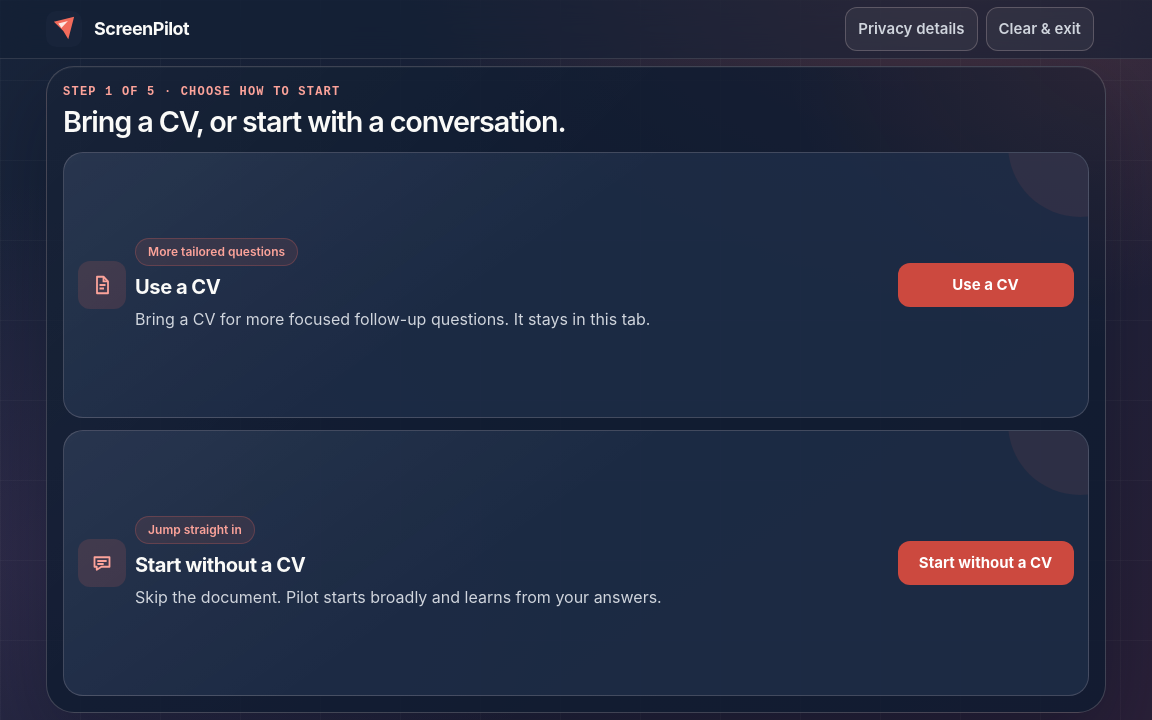
Test: DemoExperience preparation paths › uses only bootstrap and deterministic preparation before shared preflight
Expected: the text "Step 1 of 5 · Choose how to start" is shown, 63,85 -> 340,99
Expected: the header with class "sp-site-header" is shown, 0,0 -> 1151,59
Click the button "Start without a CV" at [986, 563], box 898,541 -> 1074,585
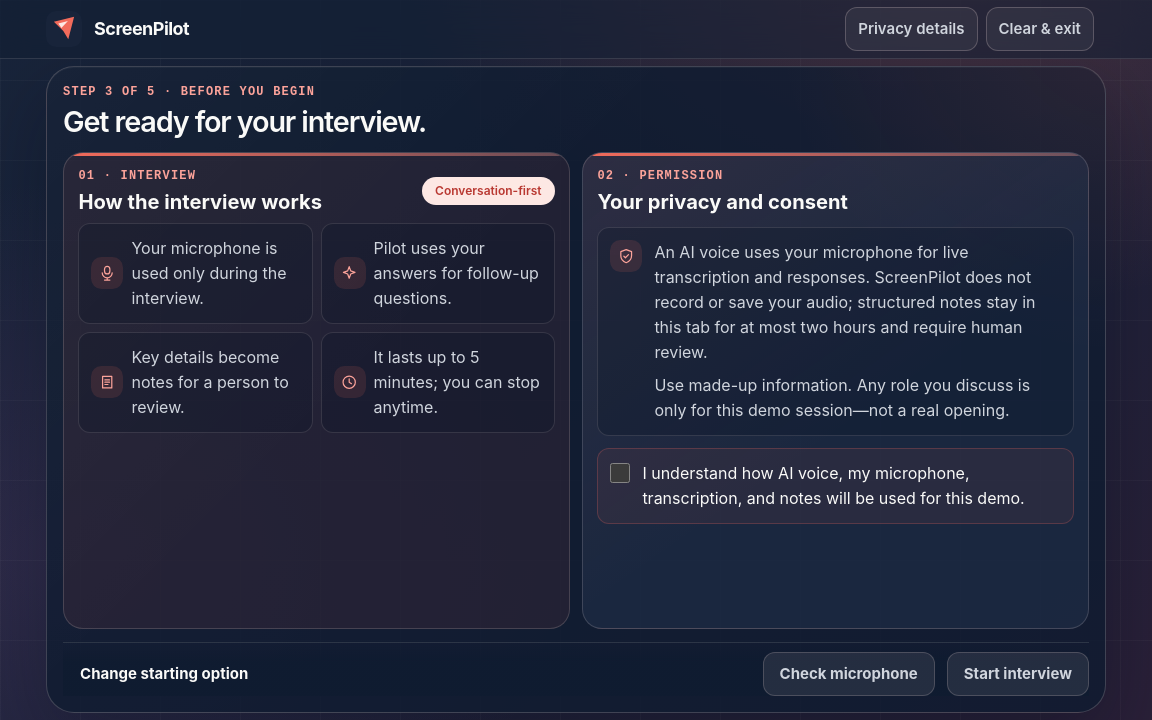
Result: the heading "How the interview works" is shown at 78,189 -> 322,215
Result: the heading "Get ready for your interview." is shown at 63,104 -> 426,139
Result: the text "Conversation-first" is shown at 422,177 -> 555,205
